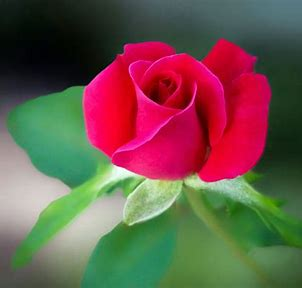inorganic: (26, 35, 278, 238)
